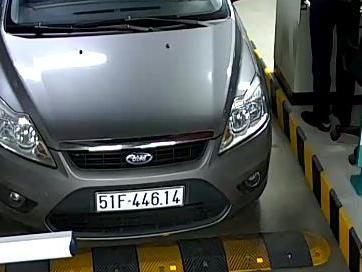number: (95, 185, 185, 212)
